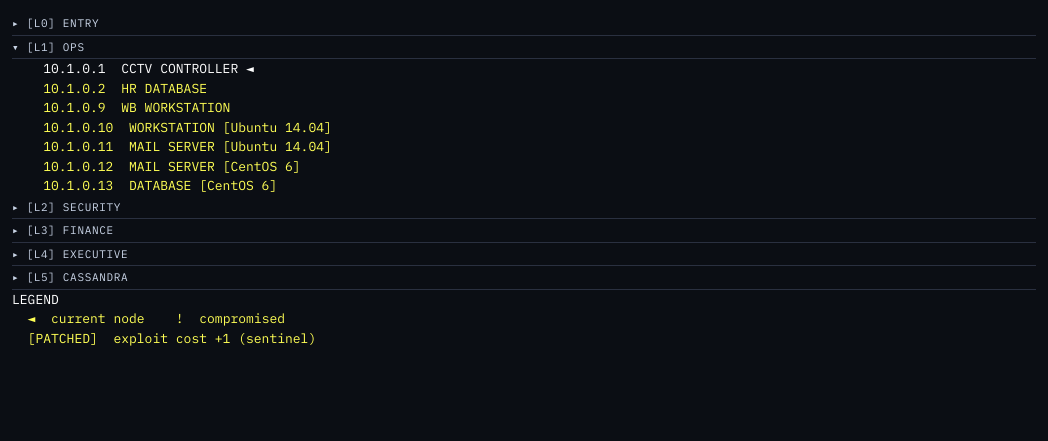
it: MapModal › renders and toggles when sessionStorage throws
Click the button "▸ [L2] SECURITY": (70, 206) 12,196 -> 1036,219
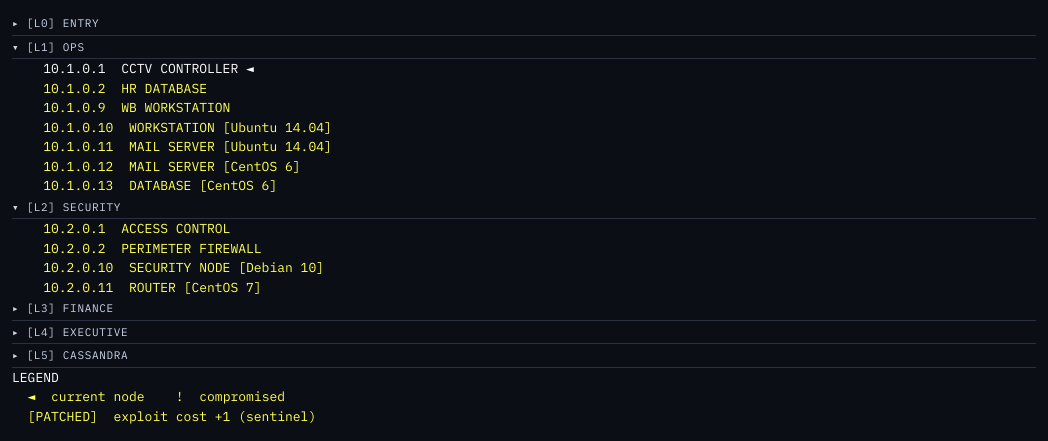
Check: the button "▾ [L2] SECURITY" is expanded, box 12,196 -> 1036,219
